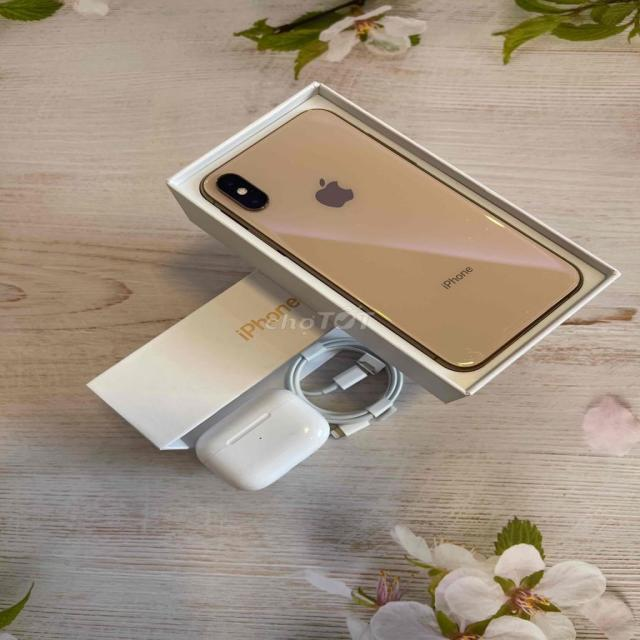gen_x_xs: (172, 82, 607, 388)
